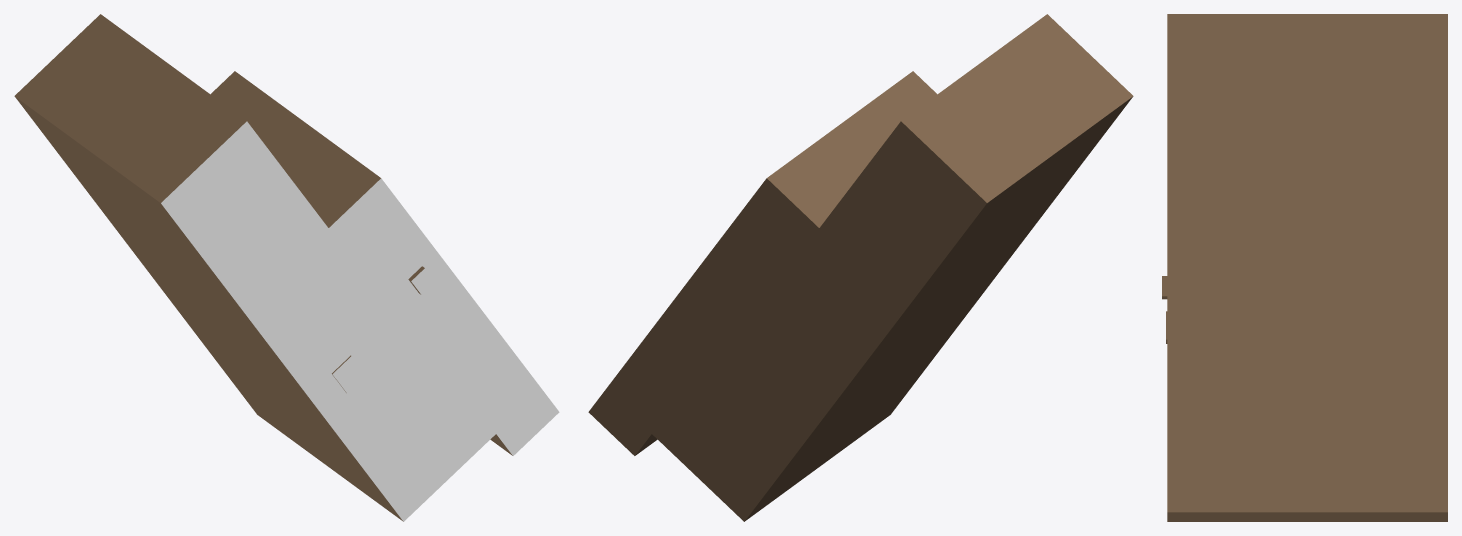
3 views of the same model, side by side, from view 1: azimuth 30°, elevation 25°; view 2: azimuth 150°, elevation 25°; view 3: azimuth 270°, elevation 25° (orthographic). The views are drawn at different scales.
Visible parts, largest first — view 1: City_PC-08686; view 2: City_PC-08686; view 3: City_PC-08686.
Part boxes in pixels (x1,y1,x2,y2): City_PC-08686: (14, 14, 559, 521); City_PC-08686: (588, 14, 1133, 521); City_PC-08686: (1162, 14, 1447, 521).
Size of the model in its own units: 2195 by 2309 by 1422.
